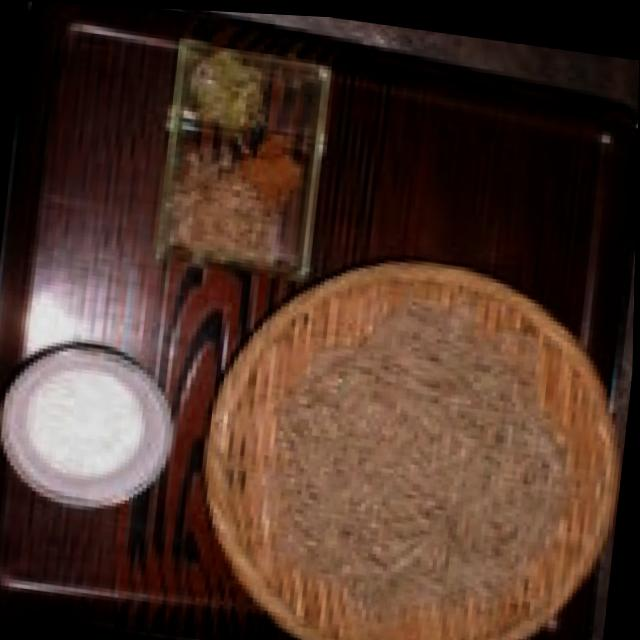面条主食: (180, 217, 636, 640)
